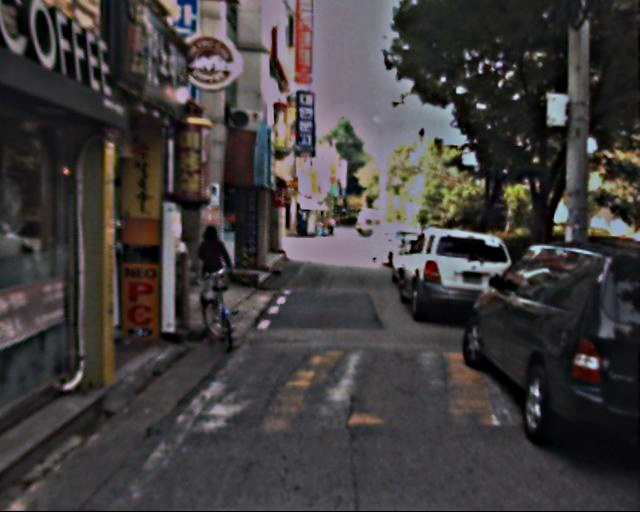person: (194, 222, 231, 311)
